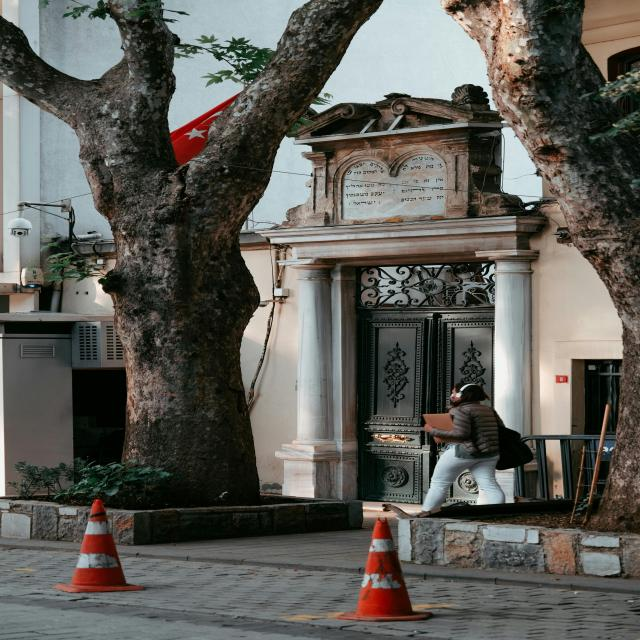Traffic Cone: (308, 510, 454, 628), (44, 492, 156, 610)
